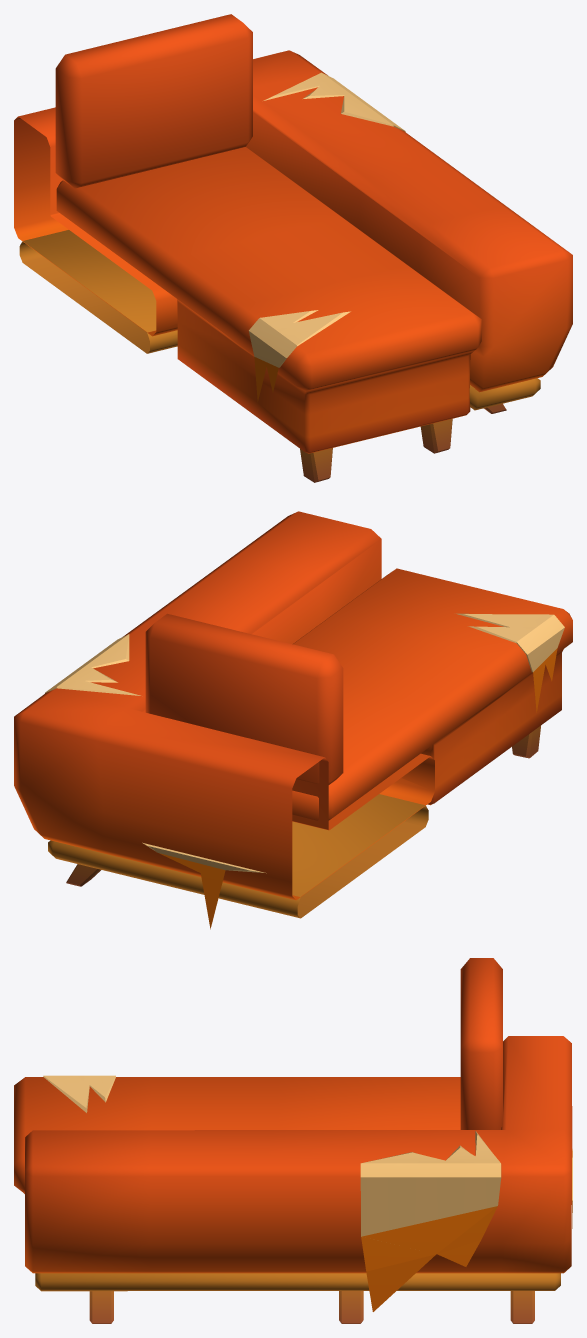
Rendered from Sofa_L_Long_Damaged.fbx.
3 views of the same model, one above another, from view 1: azimuth 30°, elevation 25°; view 2: azimuth 150°, elevation 25°; view 3: azimuth 270°, elevation 25° (orthographic). The views are drawn at different scales.
Visible parts, largest first — view 1: LargestSofa._L_LongEnd_Damaged; view 2: LargestSofa._L_LongEnd_Damaged; view 3: LargestSofa._L_LongEnd_Damaged.
Boxes of the visible parts, x1,y1,x2,y2 form: LargestSofa._L_LongEnd_Damaged: [14, 14, 572, 482]; LargestSofa._L_LongEnd_Damaged: [14, 511, 572, 929]; LargestSofa._L_LongEnd_Damaged: [14, 958, 572, 1323].
Size of the model in its own units: 4.53 by 4 by 7.96.
